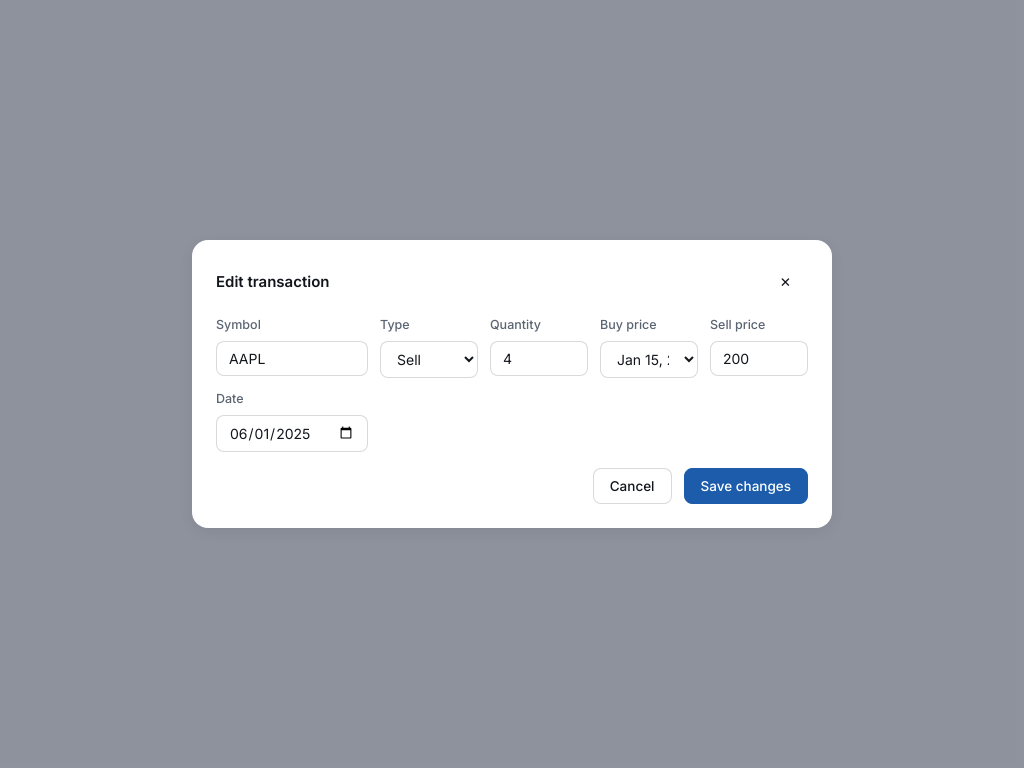
Scenario: EditTransactionModal › shows a validation error when quantity exceeds the selected lot remaining amount
Replace the text in the number field labelled "Quantity" with "20" at [539, 358], box [490,341,588,376]
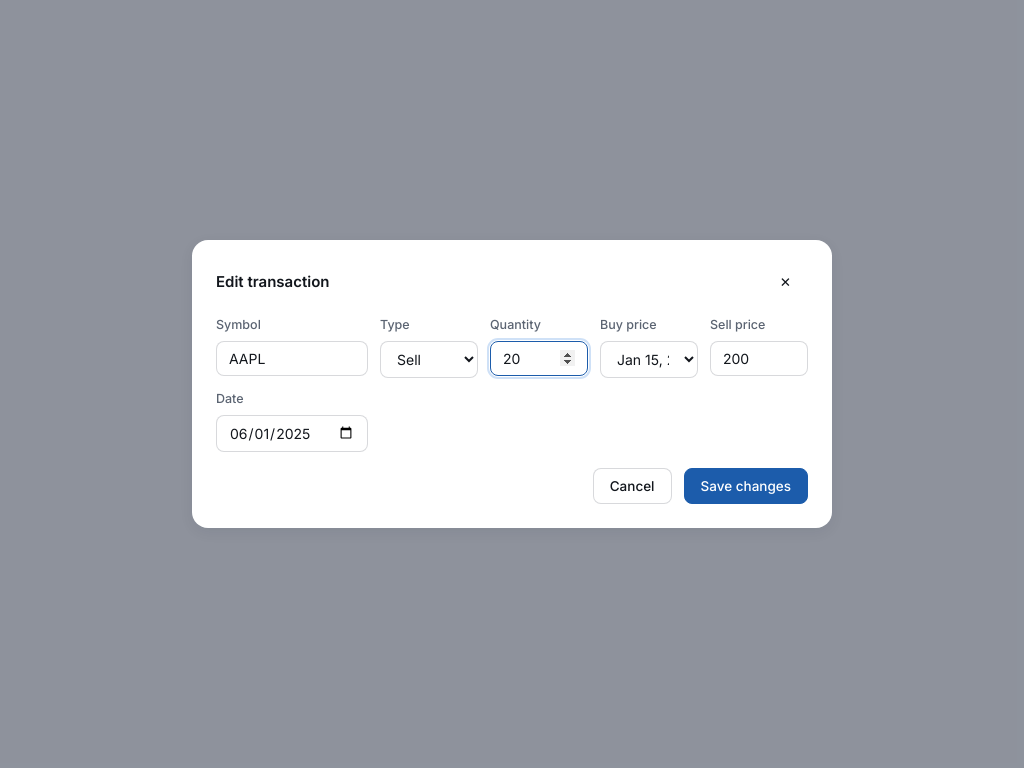
Click the button "Save changes" at [746, 486], box [684,468,808,504]
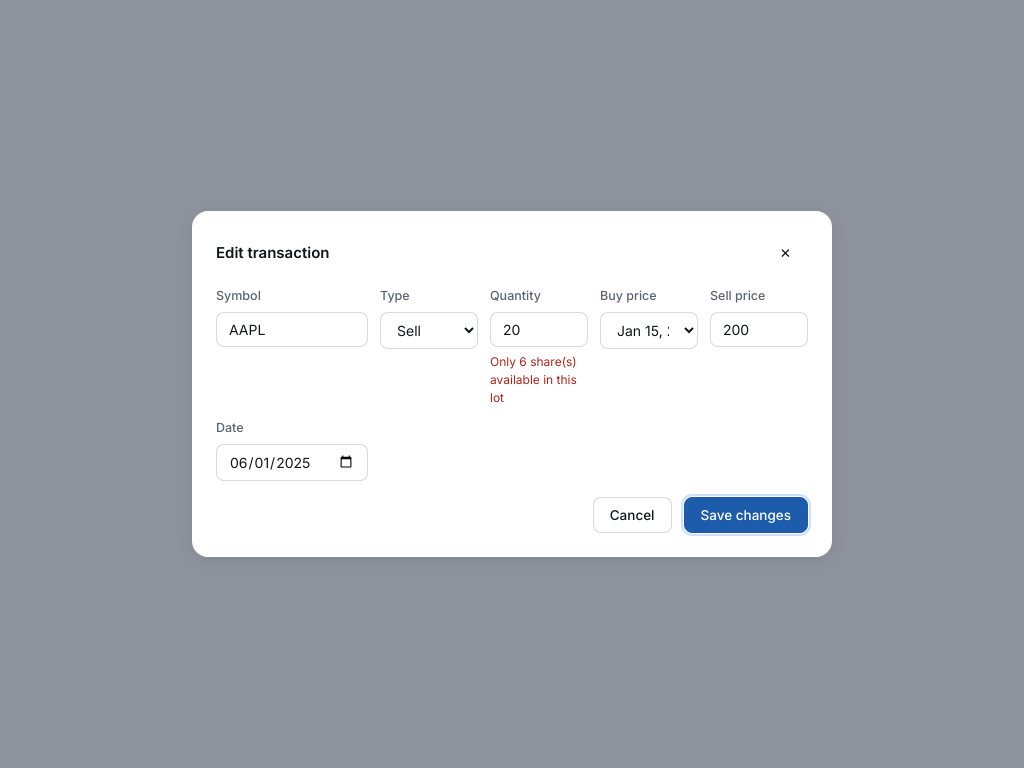
Expected: the text "Only 6 share(s) available in this lot" is shown, [490,353,588,407]
